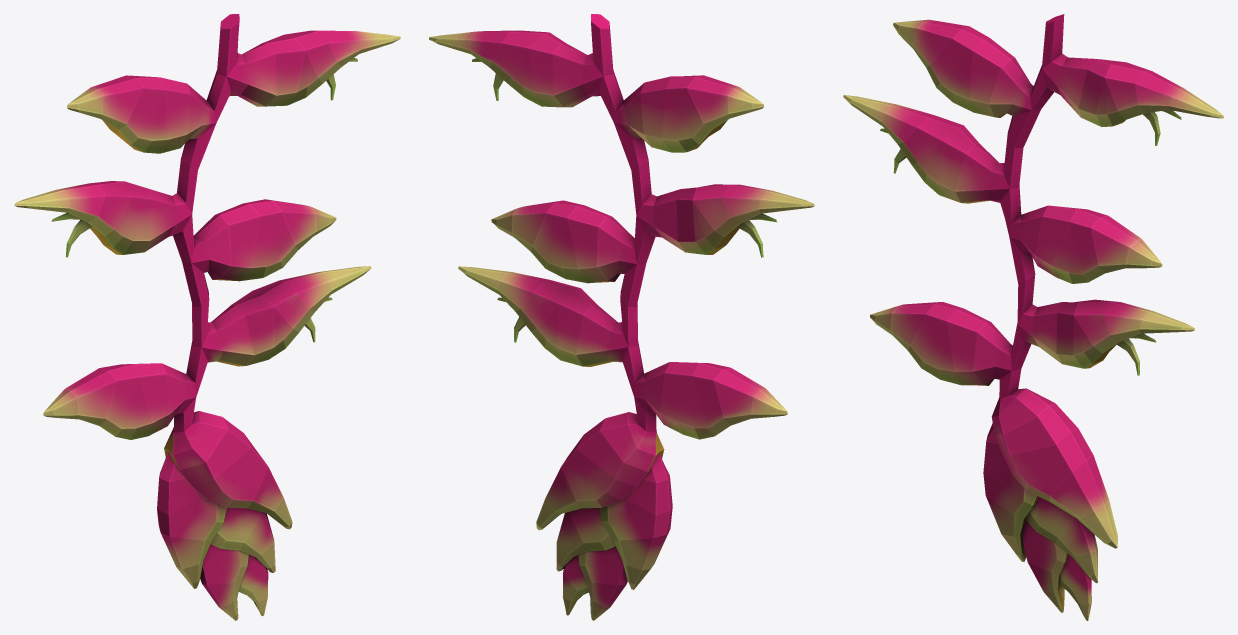
Rendered from heliconia-flower.glb.
The picture shows the model from 3 angles, left to right: view 1: azimuth 30°, elevation 25°; view 2: azimuth 150°, elevation 25°; view 3: azimuth 330°, elevation 25°; orthographic projection.
Parts seen in each view (by area): view 1: HeliconiaFlower_mesh; view 2: HeliconiaFlower_mesh; view 3: HeliconiaFlower_mesh.
Boxes of the visible parts, x1,y1,x2,y2 form: HeliconiaFlower_mesh: (14,14,400,620); HeliconiaFlower_mesh: (429,14,814,620); HeliconiaFlower_mesh: (843,14,1223,620).
Size of the model in its own units: 8.92 by 13.42 by 1.26.
Materials: 1 (1 with a texture image).
